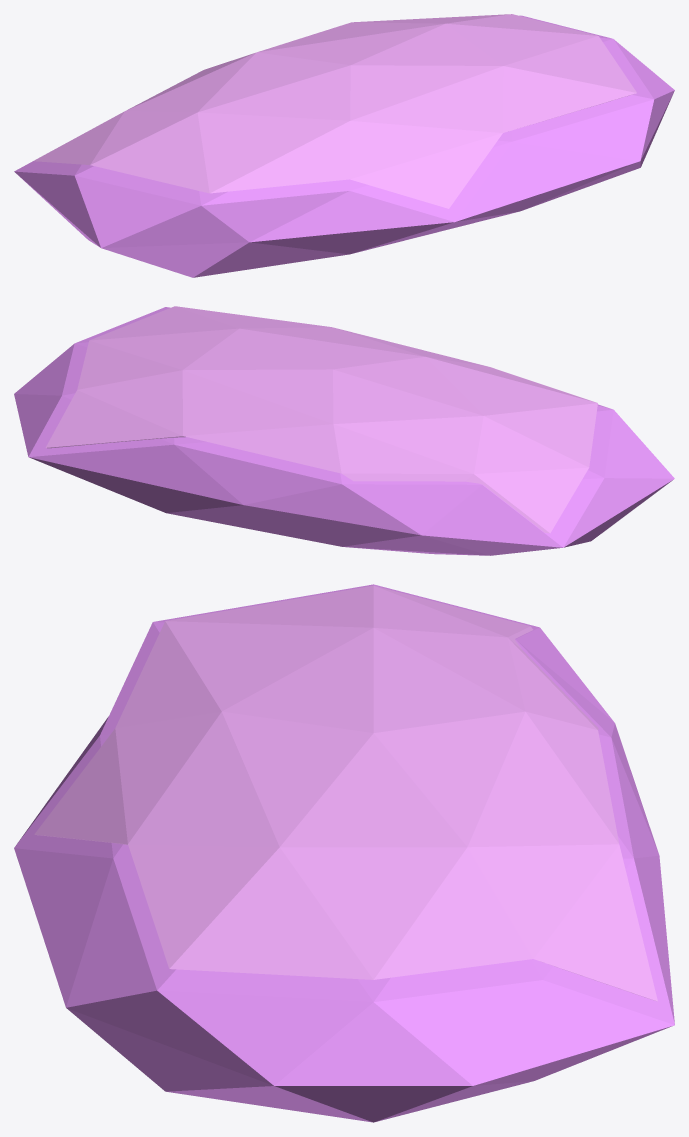
File: chicken.fbx
3 renders of one model, top to bottom at view 1: azimuth 30°, elevation 25°; view 2: azimuth 150°, elevation 25°; view 3: azimuth 270°, elevation 25°, orthographic. The views are drawn at different scales.
Parts seen in each view (by area): view 1: ICO球.001, ICO球; view 2: ICO球.001, ICO球; view 3: ICO球.001, ICO球.
Boxes of the visible parts, left/top/right/bottom form: ICO球.001: left=33, top=14, right=636, bottom=208; ICO球: left=14, top=15, right=674, bottom=277; ICO球.001: left=45, top=306, right=597, bottom=533; ICO球: left=14, top=307, right=674, bottom=555; ICO球.001: left=34, top=585, right=657, bottom=1001; ICO球: left=14, top=584, right=674, bottom=1122.
Size of the model in its own units: 107 by 24.89 by 63.99.
2 materials, 2 textured.
